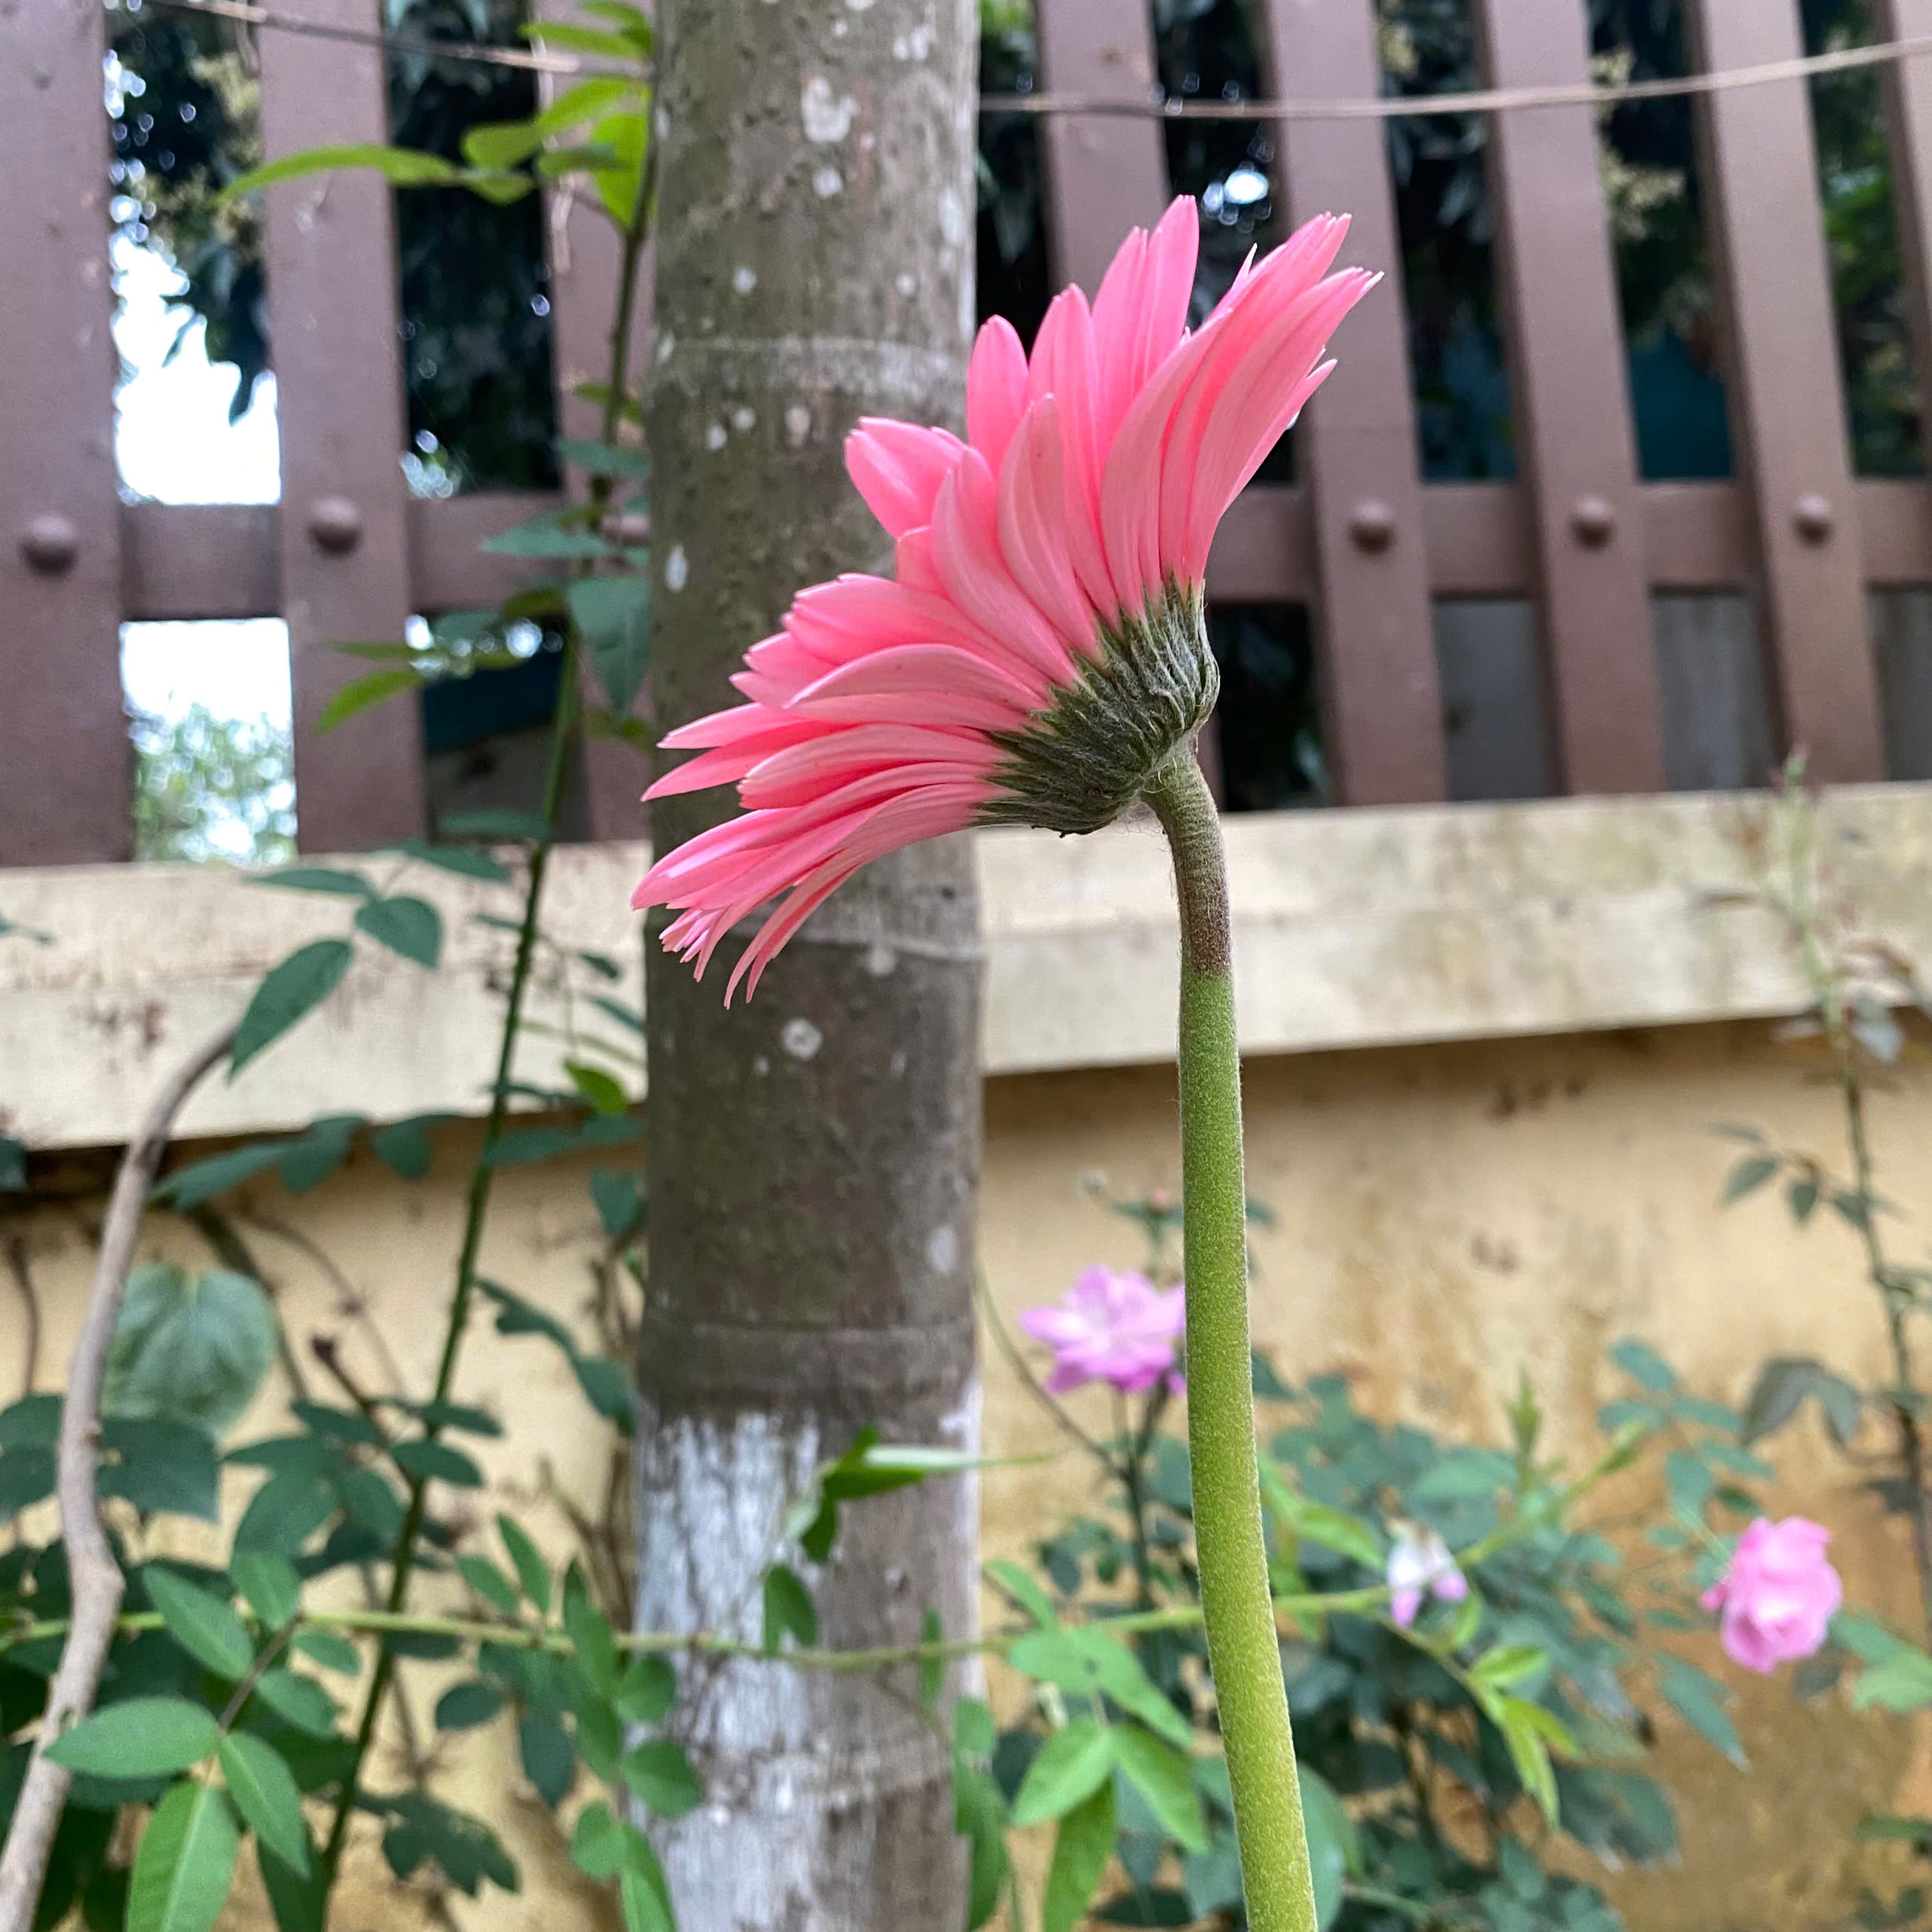hoa_huong_duong: (651, 188, 1516, 1932)
